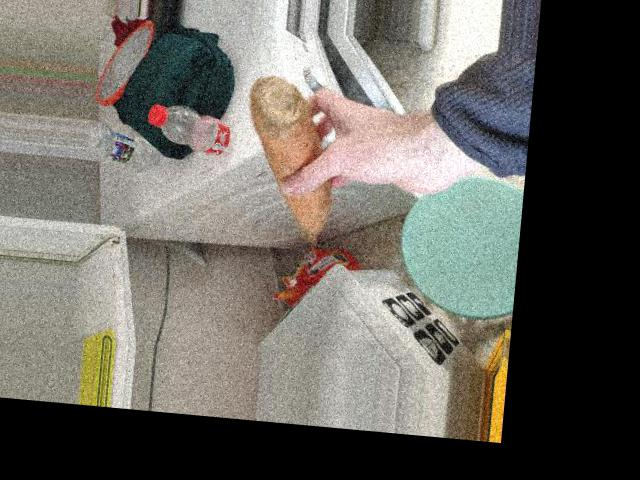sweet_potato: (232, 83, 353, 233)
